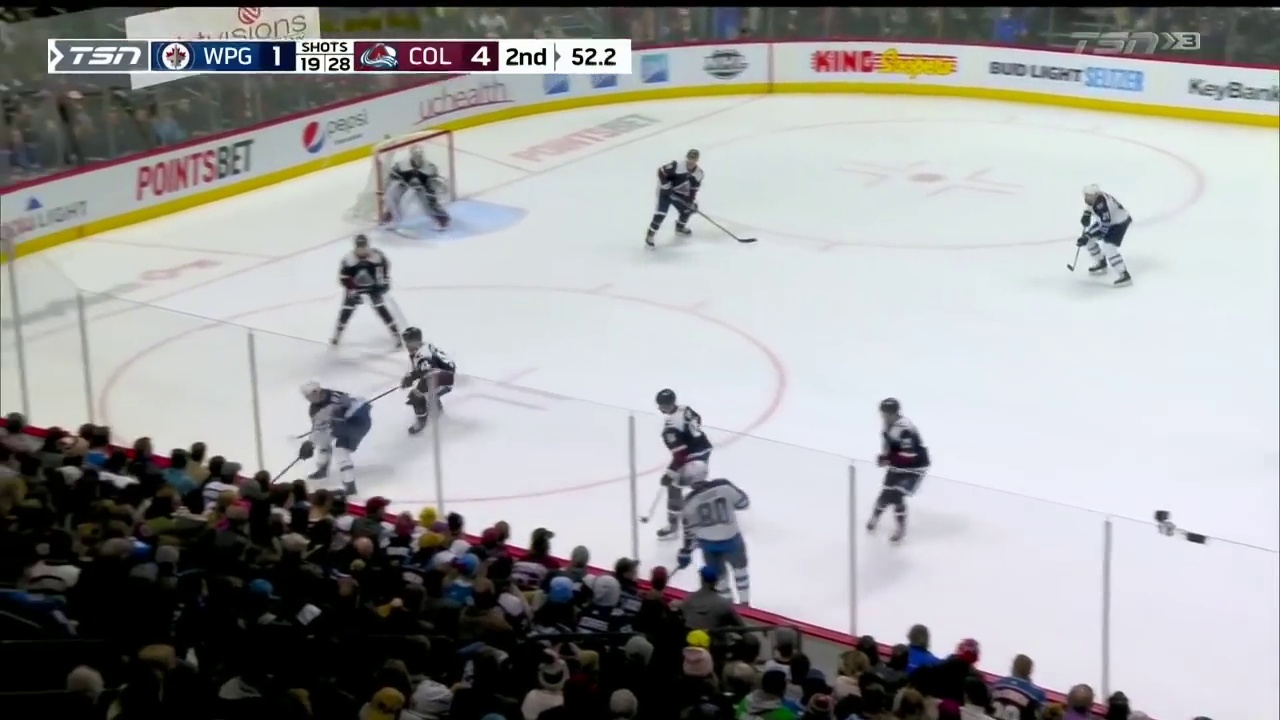goalie: (383, 145, 451, 231)
hockeyplayer: (677, 460, 751, 605), (865, 398, 930, 545), (298, 380, 373, 498), (655, 388, 712, 541), (329, 235, 404, 349), (401, 327, 457, 436), (645, 149, 704, 248), (1076, 183, 1131, 288)
